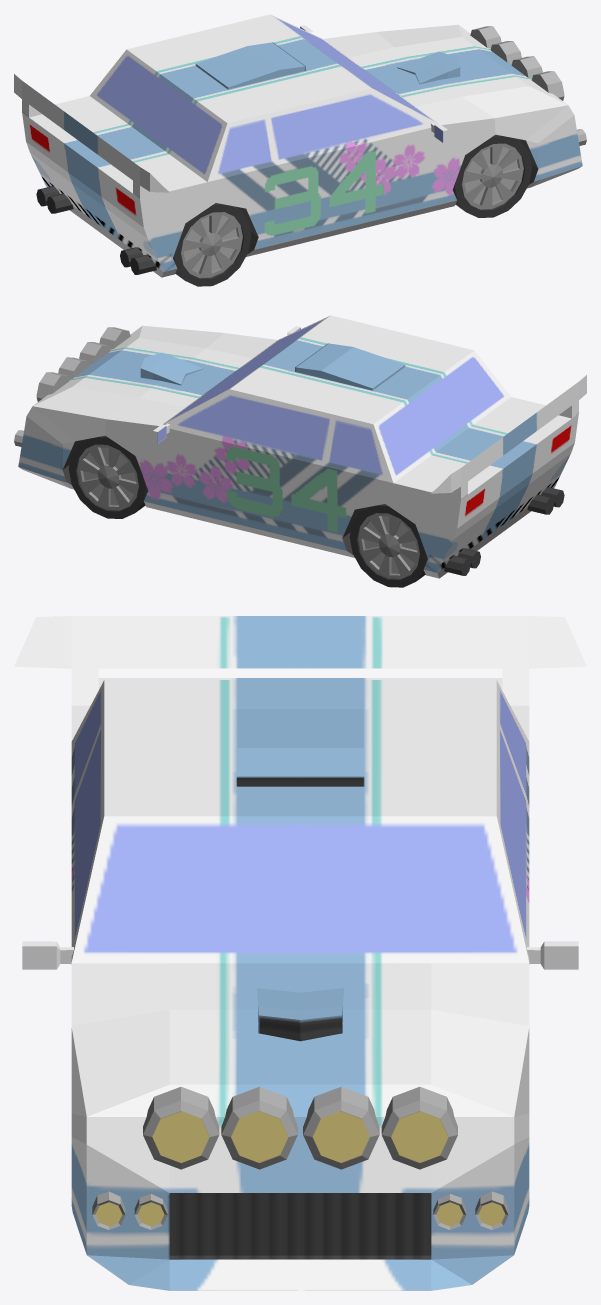
File: rally_car_01.fbx
The picture shows the model from 3 angles, top to bottom: view 1: azimuth 30°, elevation 25°; view 2: azimuth 150°, elevation 25°; view 3: azimuth 270°, elevation 25°; orthographic projection. The views are drawn at different scales.
Visible parts, largest first — view 1: car_body, wheel_front_right, wheel_rear_right; view 2: car_body, wheel_front_left, wheel_rear_left; view 3: car_body.
Boxes of the visible parts, box(x1,y1,x2,y2) form: car_body: box(14, 14, 586, 277); wheel_front_right: box(453, 134, 532, 217); wheel_rear_right: box(173, 203, 251, 286); car_body: box(14, 315, 586, 578); wheel_front_left: box(68, 435, 147, 518); wheel_rear_left: box(349, 504, 427, 587); car_body: box(14, 616, 586, 1290).
Bounding box in the file's own units: 472 × 157 × 263.
Materials: 1 (1 with a texture image).
